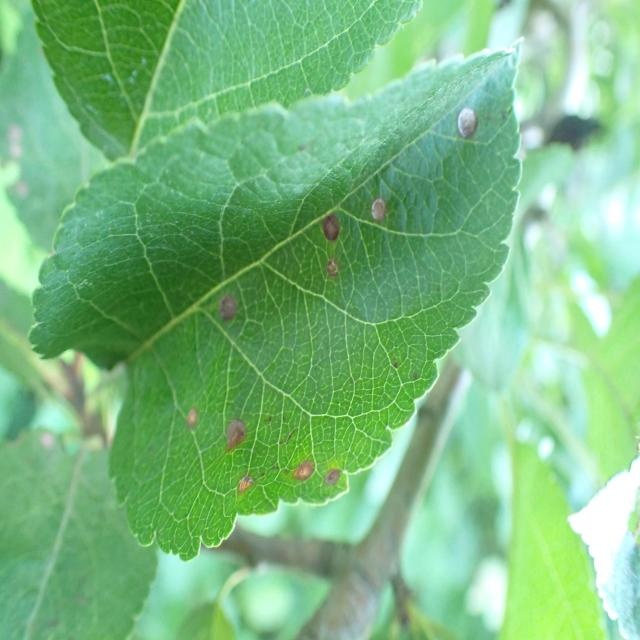Black Rot: (223, 450, 271, 520), (439, 89, 485, 156), (205, 412, 257, 470), (206, 276, 248, 342), (310, 199, 351, 253), (363, 179, 396, 242), (291, 439, 324, 497), (318, 254, 359, 298), (173, 386, 206, 431), (320, 459, 352, 490)
